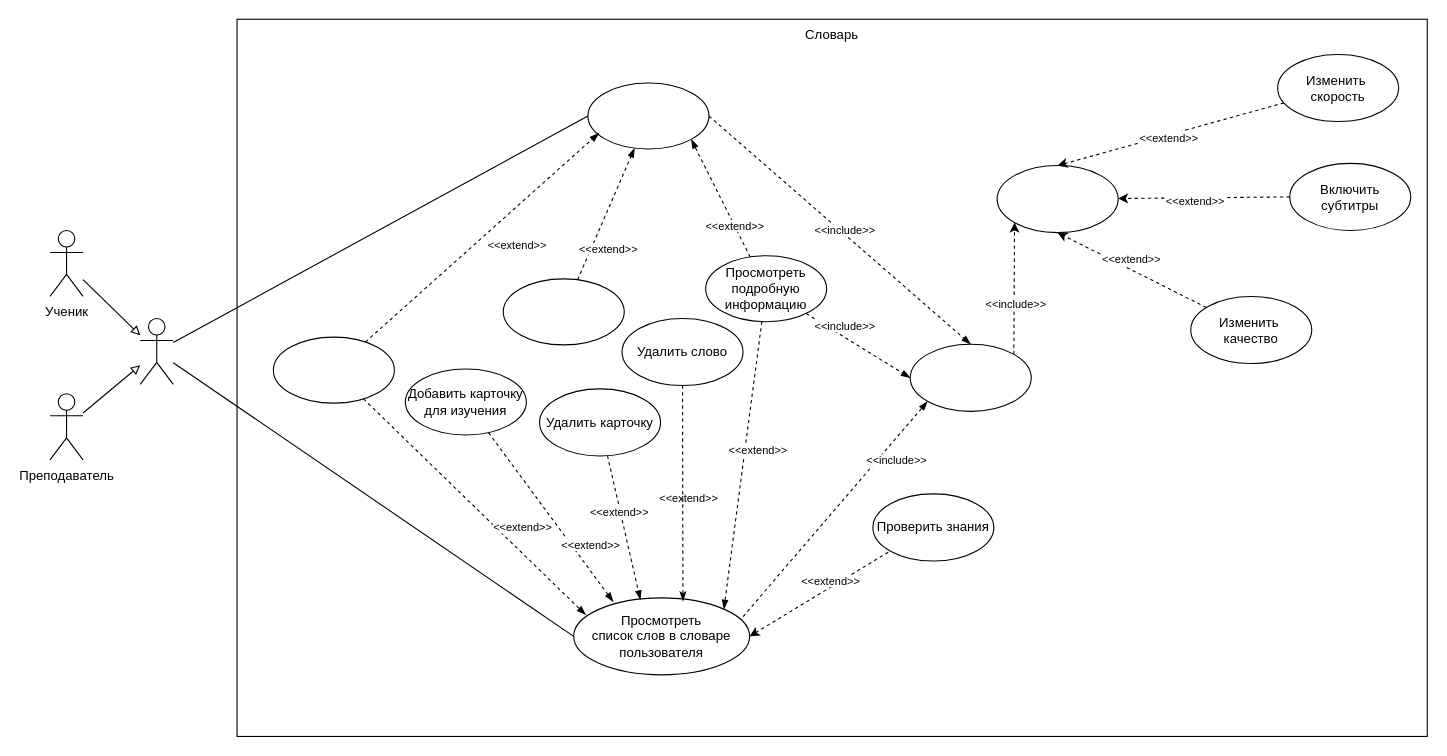
The diagram is 1447 pixels wide and 756 high, and some of its shapes have lost their labels. Each missing label, with the centre of its shape:
"Добавить в словарь пользователя" belongs at (563,311).
"Найти слово в словаре" belongs at (648,115).
"Пользователь" belongs at (156,350).
"Прослушать озвучку произношения" belongs at (333,369).
"Просмотреть видео" belongs at (1057,198).
"Просмотреть перевод" belongs at (970,377).
